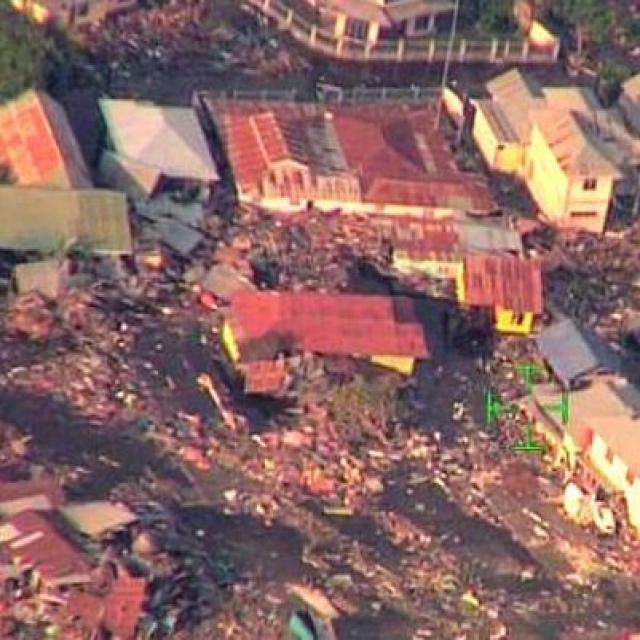collapsed_building: (198, 200, 536, 413), (0, 468, 214, 633), (109, 145, 218, 297)
